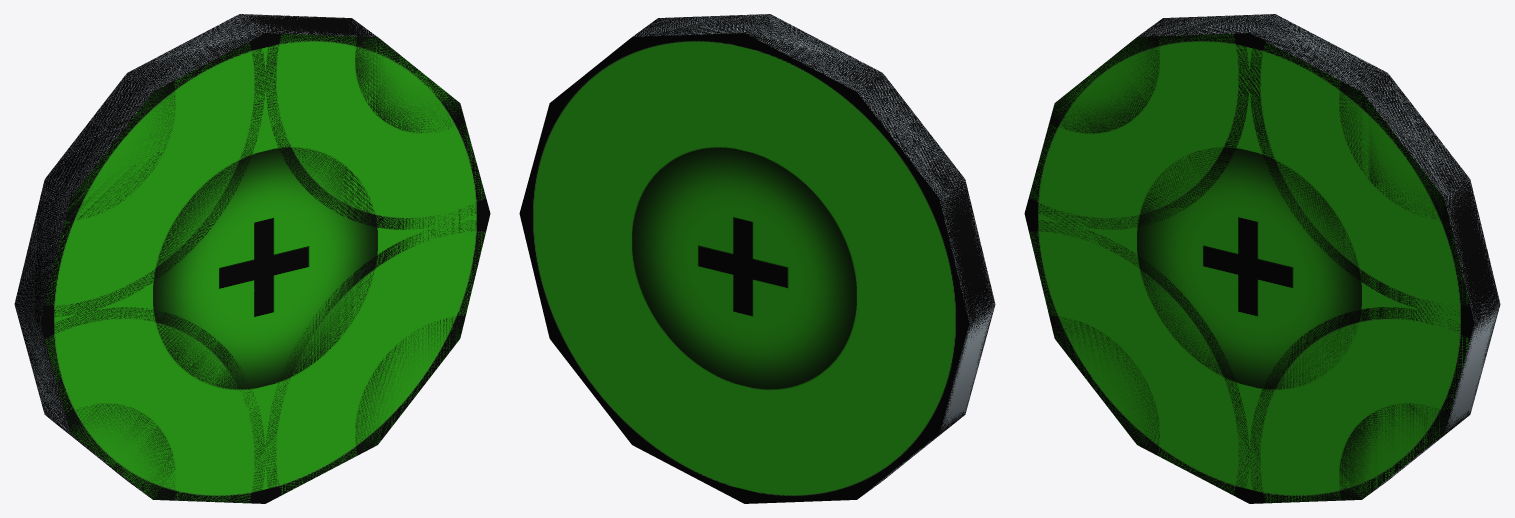
Rendered from AddShield.fbx.
3 renders of one model, left to right at view 1: azimuth 30°, elevation 25°; view 2: azimuth 150°, elevation 25°; view 3: azimuth 330°, elevation 25°, orthographic.
Parts seen in each view (by area): view 1: Model; view 2: Model; view 3: Model.
Boxes of the visible parts, x1,y1,x2,y2 form: Model: (14,14,490,503); Model: (519,14,995,503); Model: (1024,14,1500,503).
Size of the model in its own units: 1 by 1 by 0.1.
